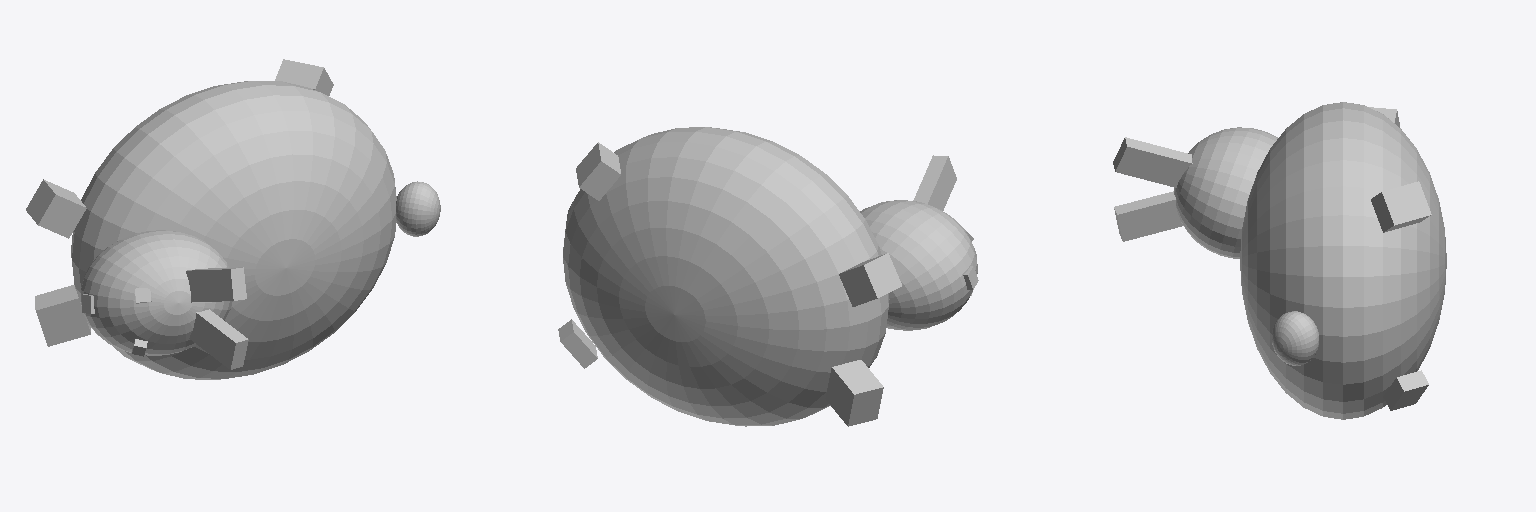
File: CreatureWhiteRabbit.obj
3 views of the same model, side by side, from view 1: azimuth 30°, elevation 25°; view 2: azimuth 150°, elevation 25°; view 3: azimuth 270°, elevation 25° (orthographic).
Parts seen in each view (by area): view 1: Sphere, Sphere.001, Cube, Cube.001, Cube.004, Sphere.002, Cube.005, Cube.003; view 2: Sphere, Sphere.001, Cube, Cube.001, Cube.003, Cube.005, Cube.002; view 3: Sphere, Sphere.001, Cube.005, Cube.004, Sphere.002, Cube.003, Cube.002.
Part boxes in pixels (bbox=[...]): Sphere: bbox=[71, 81, 396, 379]; Sphere.001: bbox=[81, 230, 232, 355]; Cube: bbox=[35, 285, 90, 346]; Cube.001: bbox=[26, 179, 86, 238]; Cube.004: bbox=[189, 309, 248, 369]; Sphere.002: bbox=[396, 181, 440, 236]; Cube.005: bbox=[186, 267, 246, 302]; Cube.003: bbox=[275, 59, 333, 95]; Sphere: bbox=[563, 127, 889, 426]; Sphere.001: bbox=[860, 200, 977, 330]; Cube: bbox=[825, 360, 883, 426]; Cube.001: bbox=[839, 253, 901, 306]; Cube.003: bbox=[576, 142, 620, 200]; Cube.005: bbox=[913, 155, 956, 210]; Cube.002: bbox=[558, 319, 597, 368]; Sphere: bbox=[1240, 102, 1446, 419]; Sphere.001: bbox=[1174, 127, 1277, 258]; Cube.005: bbox=[1113, 137, 1192, 187]; Cube.004: bbox=[1114, 191, 1182, 241]; Sphere.002: bbox=[1272, 311, 1318, 365]; Cube.003: bbox=[1371, 181, 1431, 232]; Cube.002: bbox=[1383, 370, 1428, 410].
Bounding box in the file's own units: 2.23 × 1.58 × 1.7.